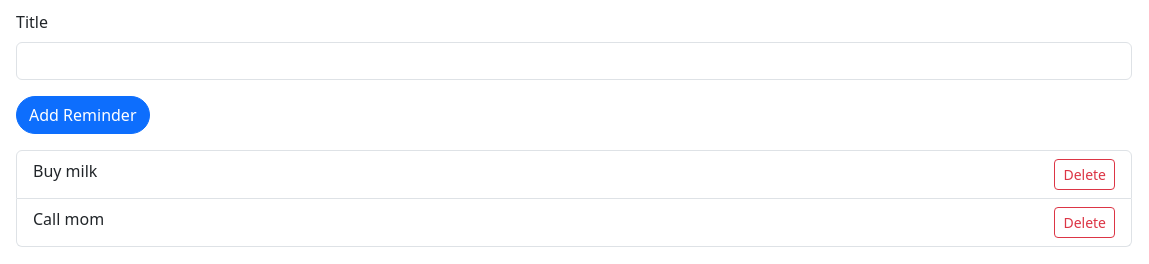
Test case: Reminders app › removes a reminder
The width and height of the screenshot is (1149, 264).
Expected: the list item "Buy milk" is shown, [33,160,97,182]
Click the button "Delete" in the row of "Buy milk" at {"x": 1085, "y": 174}, box [1054,159,1115,190]
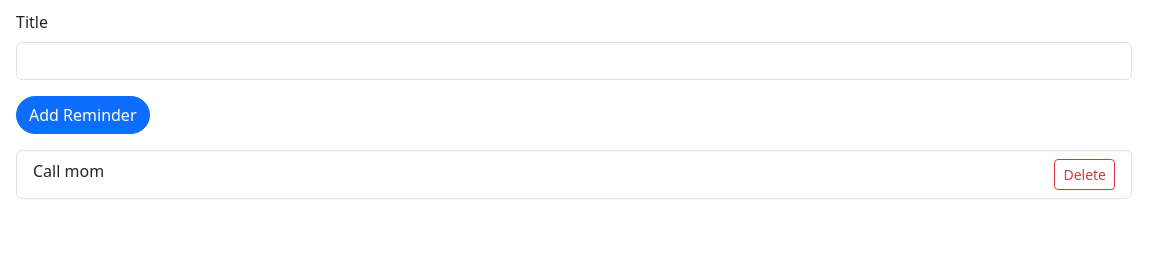
Expected: the list item "Buy milk" is gone
